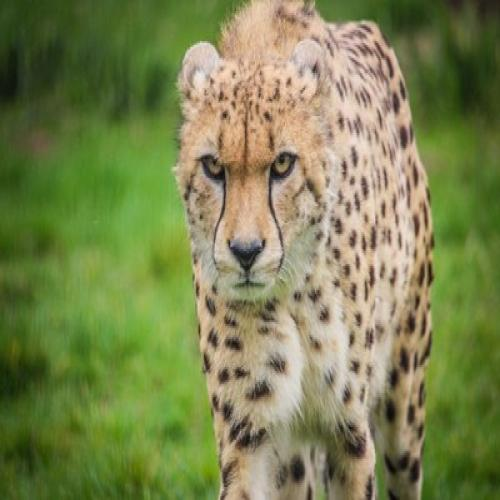cheetah-endangered: (174, 0, 434, 500)
